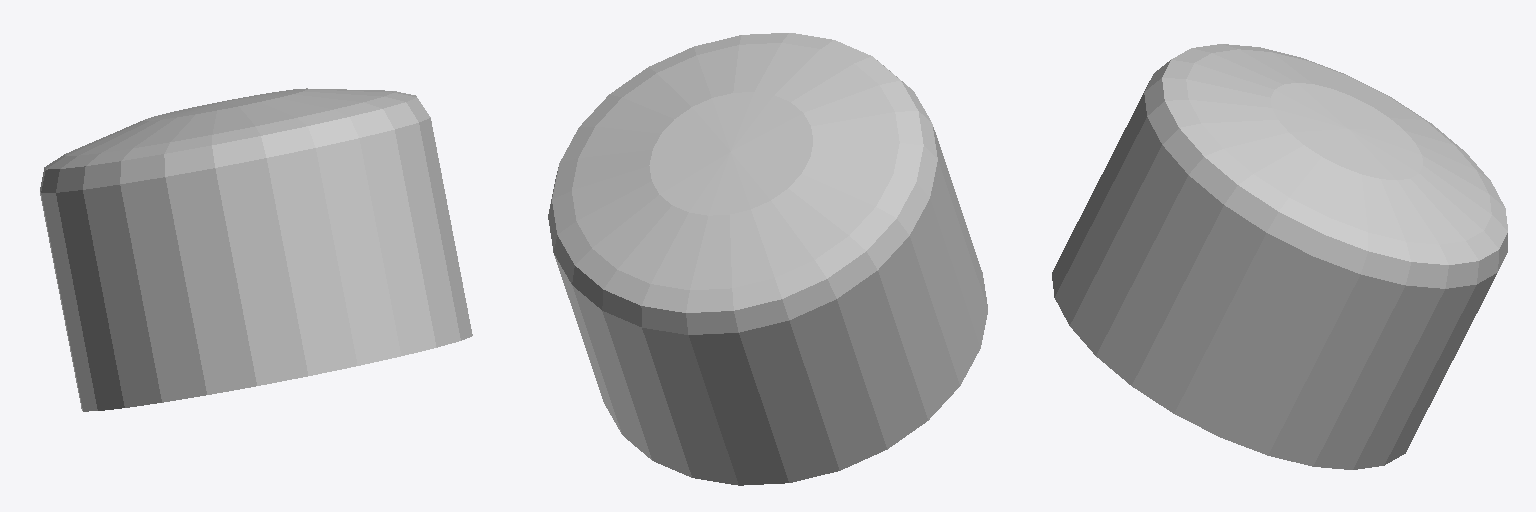
File: button_a.obj
3 renders of one model, left to right at view 1: azimuth 30°, elevation 25°; view 2: azimuth 150°, elevation 25°; view 3: azimuth 270°, elevation 25°, orthographic.
Parts seen in each view (by area): view 1: r_button_a; view 2: r_button_a; view 3: r_button_a.
Part boxes in pixels (bbox=[...]): r_button_a: bbox=[40, 88, 472, 411]; r_button_a: bbox=[548, 33, 987, 485]; r_button_a: bbox=[1052, 44, 1507, 469].
Bounding box in the file's own units: 0.009 × 0.0086 × 0.0102.